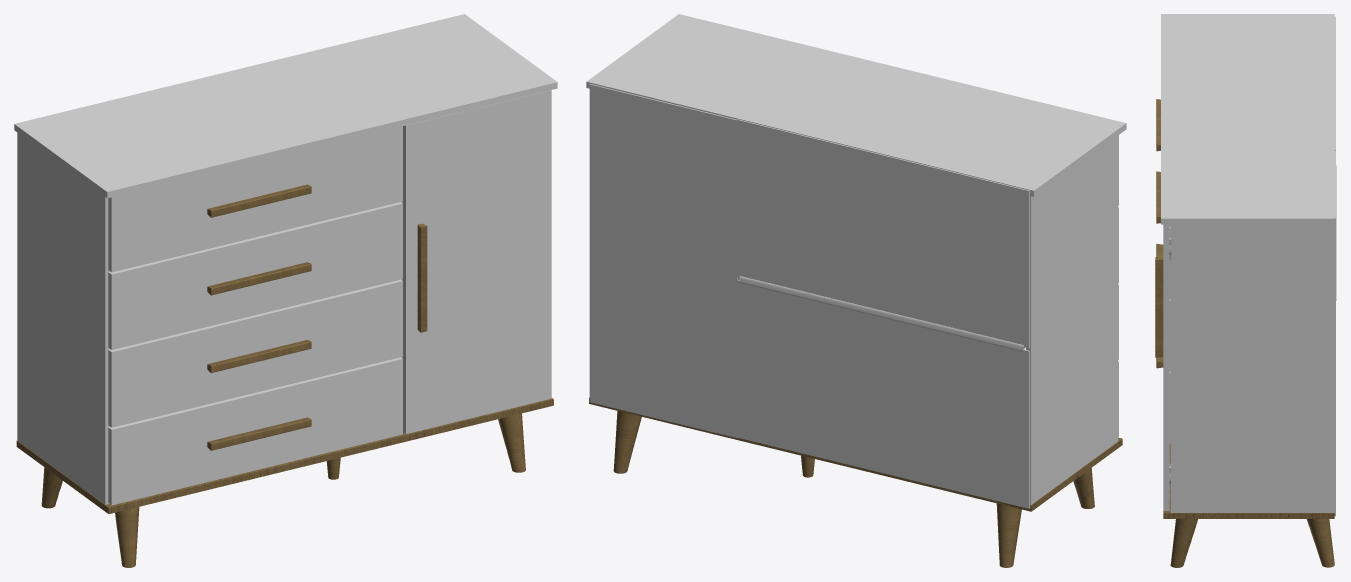
Rendered from comoda_ludmila_clean.glb.
The picture shows the model from 3 angles, left to right: view 1: azimuth 30°, elevation 25°; view 2: azimuth 150°, elevation 25°; view 3: azimuth 270°, elevation 25°; orthographic projection. The views are drawn at different scales.
Visible parts, largest first — view 1: CORPO, PORTA_MESH, GAVETA1_MESH, GAVETA3_MESH, GAVETA2_MESH, GAVETA4_MESH, PES; view 2: CORPO, PES; view 3: CORPO, PORTA_MESH, PES, GAVETA3_MESH, GAVETA4_MESH, GAVETA2_MESH.
Boxes of the visible parts, x1,y1,x2,y2 form: CORPO: (14, 14, 557, 513); PORTA_MESH: (402, 90, 551, 433); GAVETA1_MESH: (108, 357, 402, 505); GAVETA3_MESH: (108, 202, 402, 349); GAVETA2_MESH: (108, 279, 402, 427); GAVETA4_MESH: (108, 126, 402, 272); PES: (41, 413, 525, 567); CORPO: (586, 14, 1126, 511); PES: (613, 411, 1094, 567); CORPO: (1161, 14, 1336, 518); PORTA_MESH: (1155, 224, 1170, 510); PES: (1170, 519, 1334, 567); GAVETA3_MESH: (1156, 171, 1170, 298); GAVETA4_MESH: (1156, 99, 1170, 226); GAVETA2_MESH: (1156, 244, 1170, 371).
Bounding box in the file's own units: 1.12 × 0.921 × 0.4197.
Materials: 5 (1 with a texture image).
